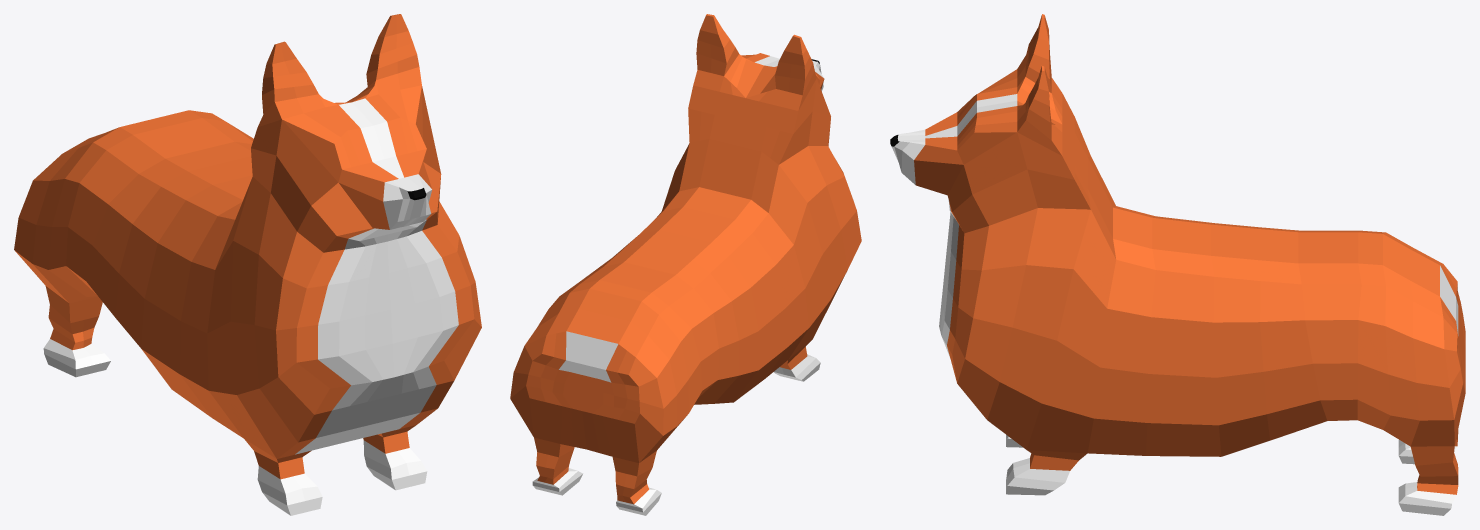
File: Corgi.fbx
The picture shows the model from 3 angles, left to right: view 1: azimuth 30°, elevation 25°; view 2: azimuth 150°, elevation 25°; view 3: azimuth 270°, elevation 25°; orthographic projection. The views are drawn at different scales.
Parts seen in each view (by area): view 1: Plane; view 2: Plane; view 3: Plane.
Boxes of the visible parts, x1=… form: Plane: x1=14, y1=14, x2=481, y2=515; Plane: x1=510, y1=14, x2=861, y2=515; Plane: x1=890, y1=14, x2=1465, y2=515.
Bounding box in the file's own units: 379 × 847 × 1000.
